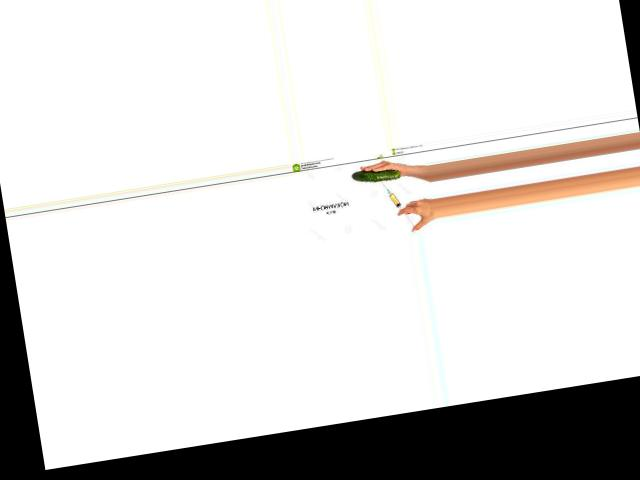cucumber: (351, 164, 401, 185)
